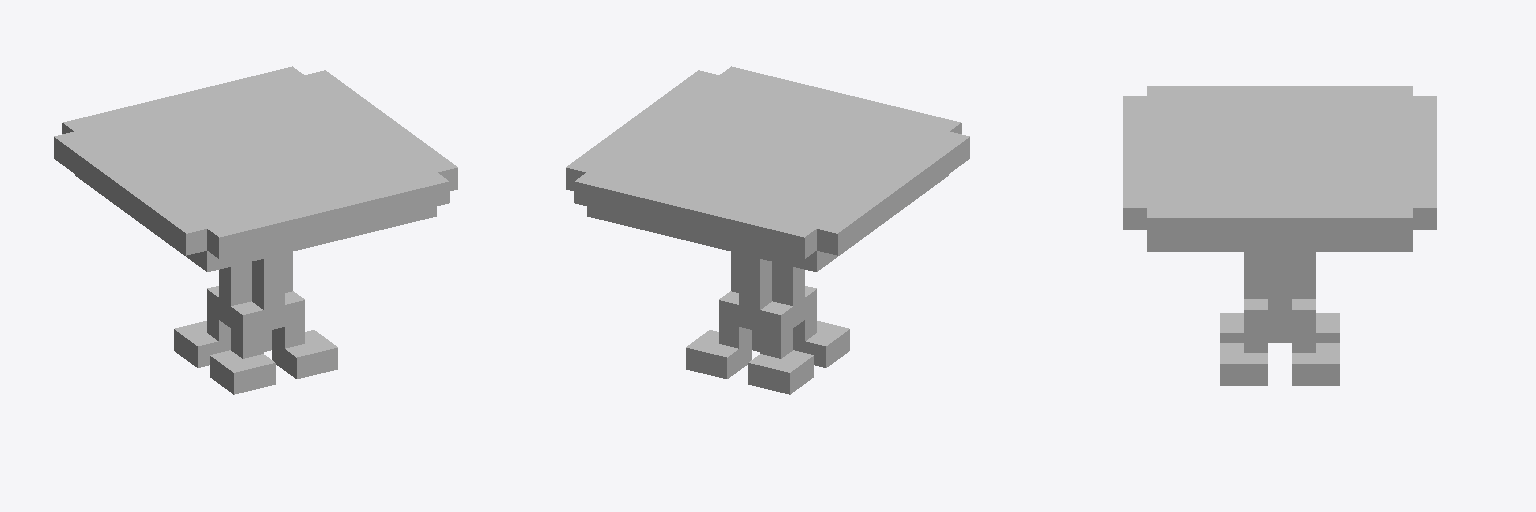
The model's file is Table.obj.
3 views of the same model, side by side, from view 1: azimuth 30°, elevation 25°; view 2: azimuth 150°, elevation 25°; view 3: azimuth 270°, elevation 25° (orthographic).
Parts seen in each view (by area): view 1: object 1; view 2: object 1; view 3: object 1.
Part boxes in pixels (x1,y1,x2,y2): object 1: (54,66,457,394); object 1: (566,66,969,394); object 1: (1123,86,1436,385).
Size of the model in its own units: 5.2 by 3.8 by 5.2.